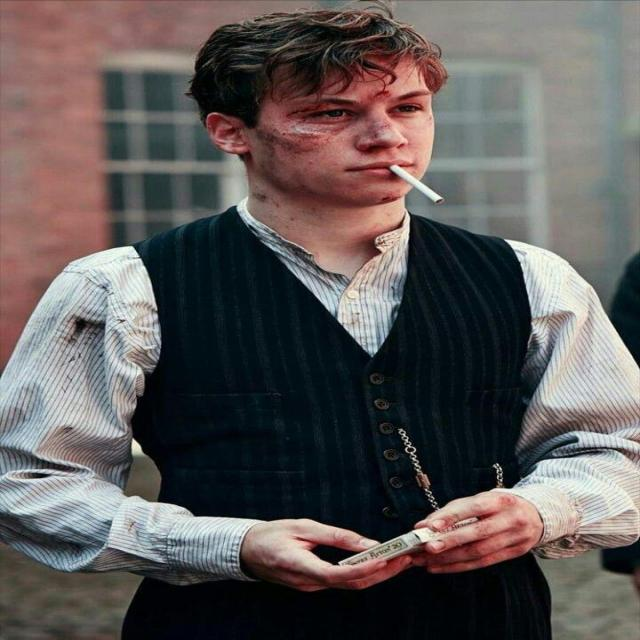cigarette: (372, 147, 470, 216)
